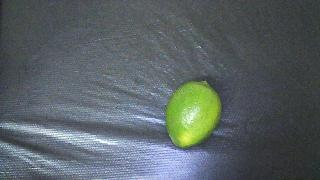LOCAL: (165, 81, 221, 148)
